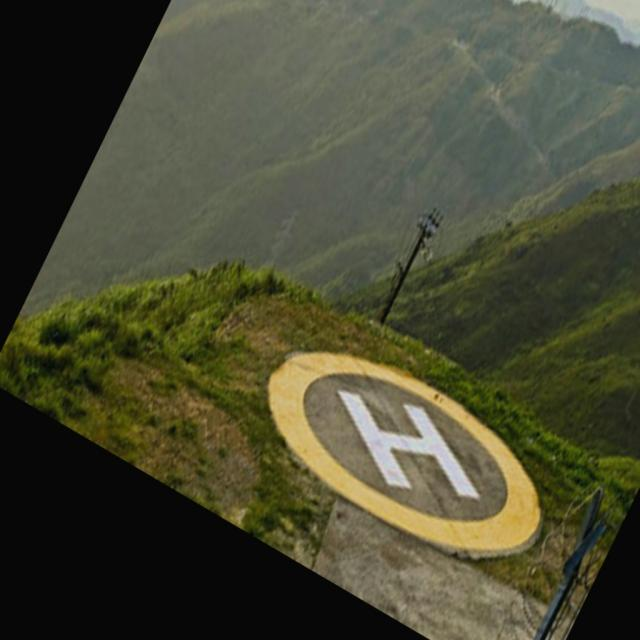helipad: (262, 340, 548, 564)
